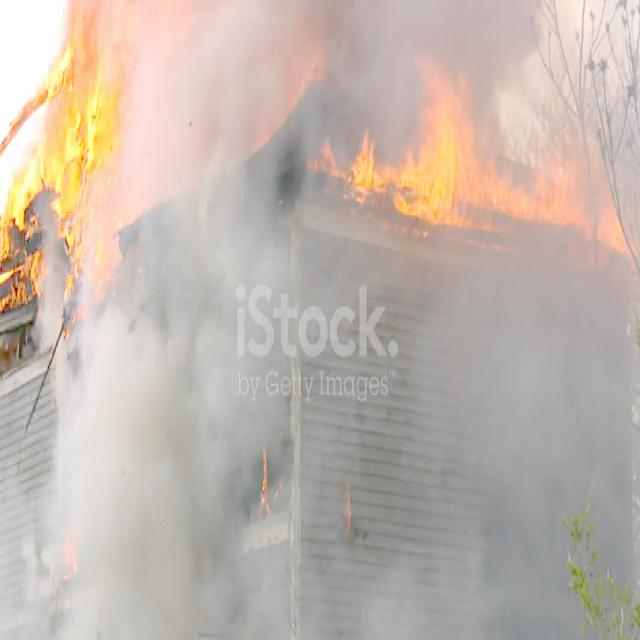fire: (362, 92, 554, 246), (0, 32, 120, 277)
smoke: (96, 294, 218, 619), (163, 2, 277, 166)
